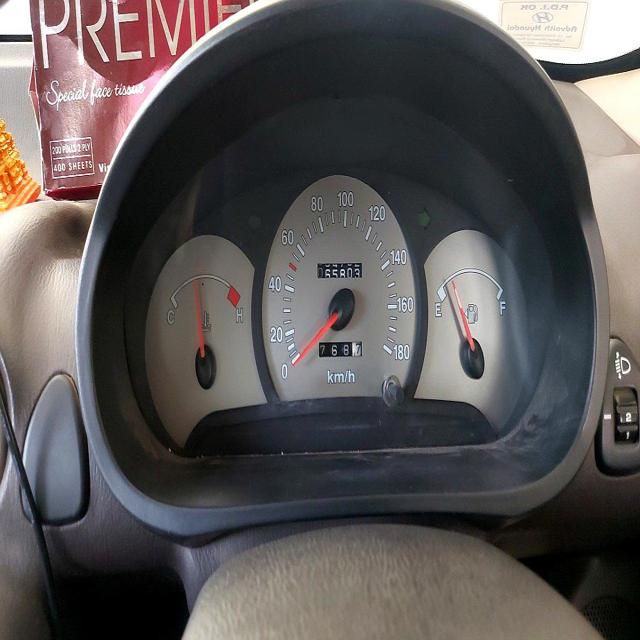odometer: (315, 260, 364, 280)
